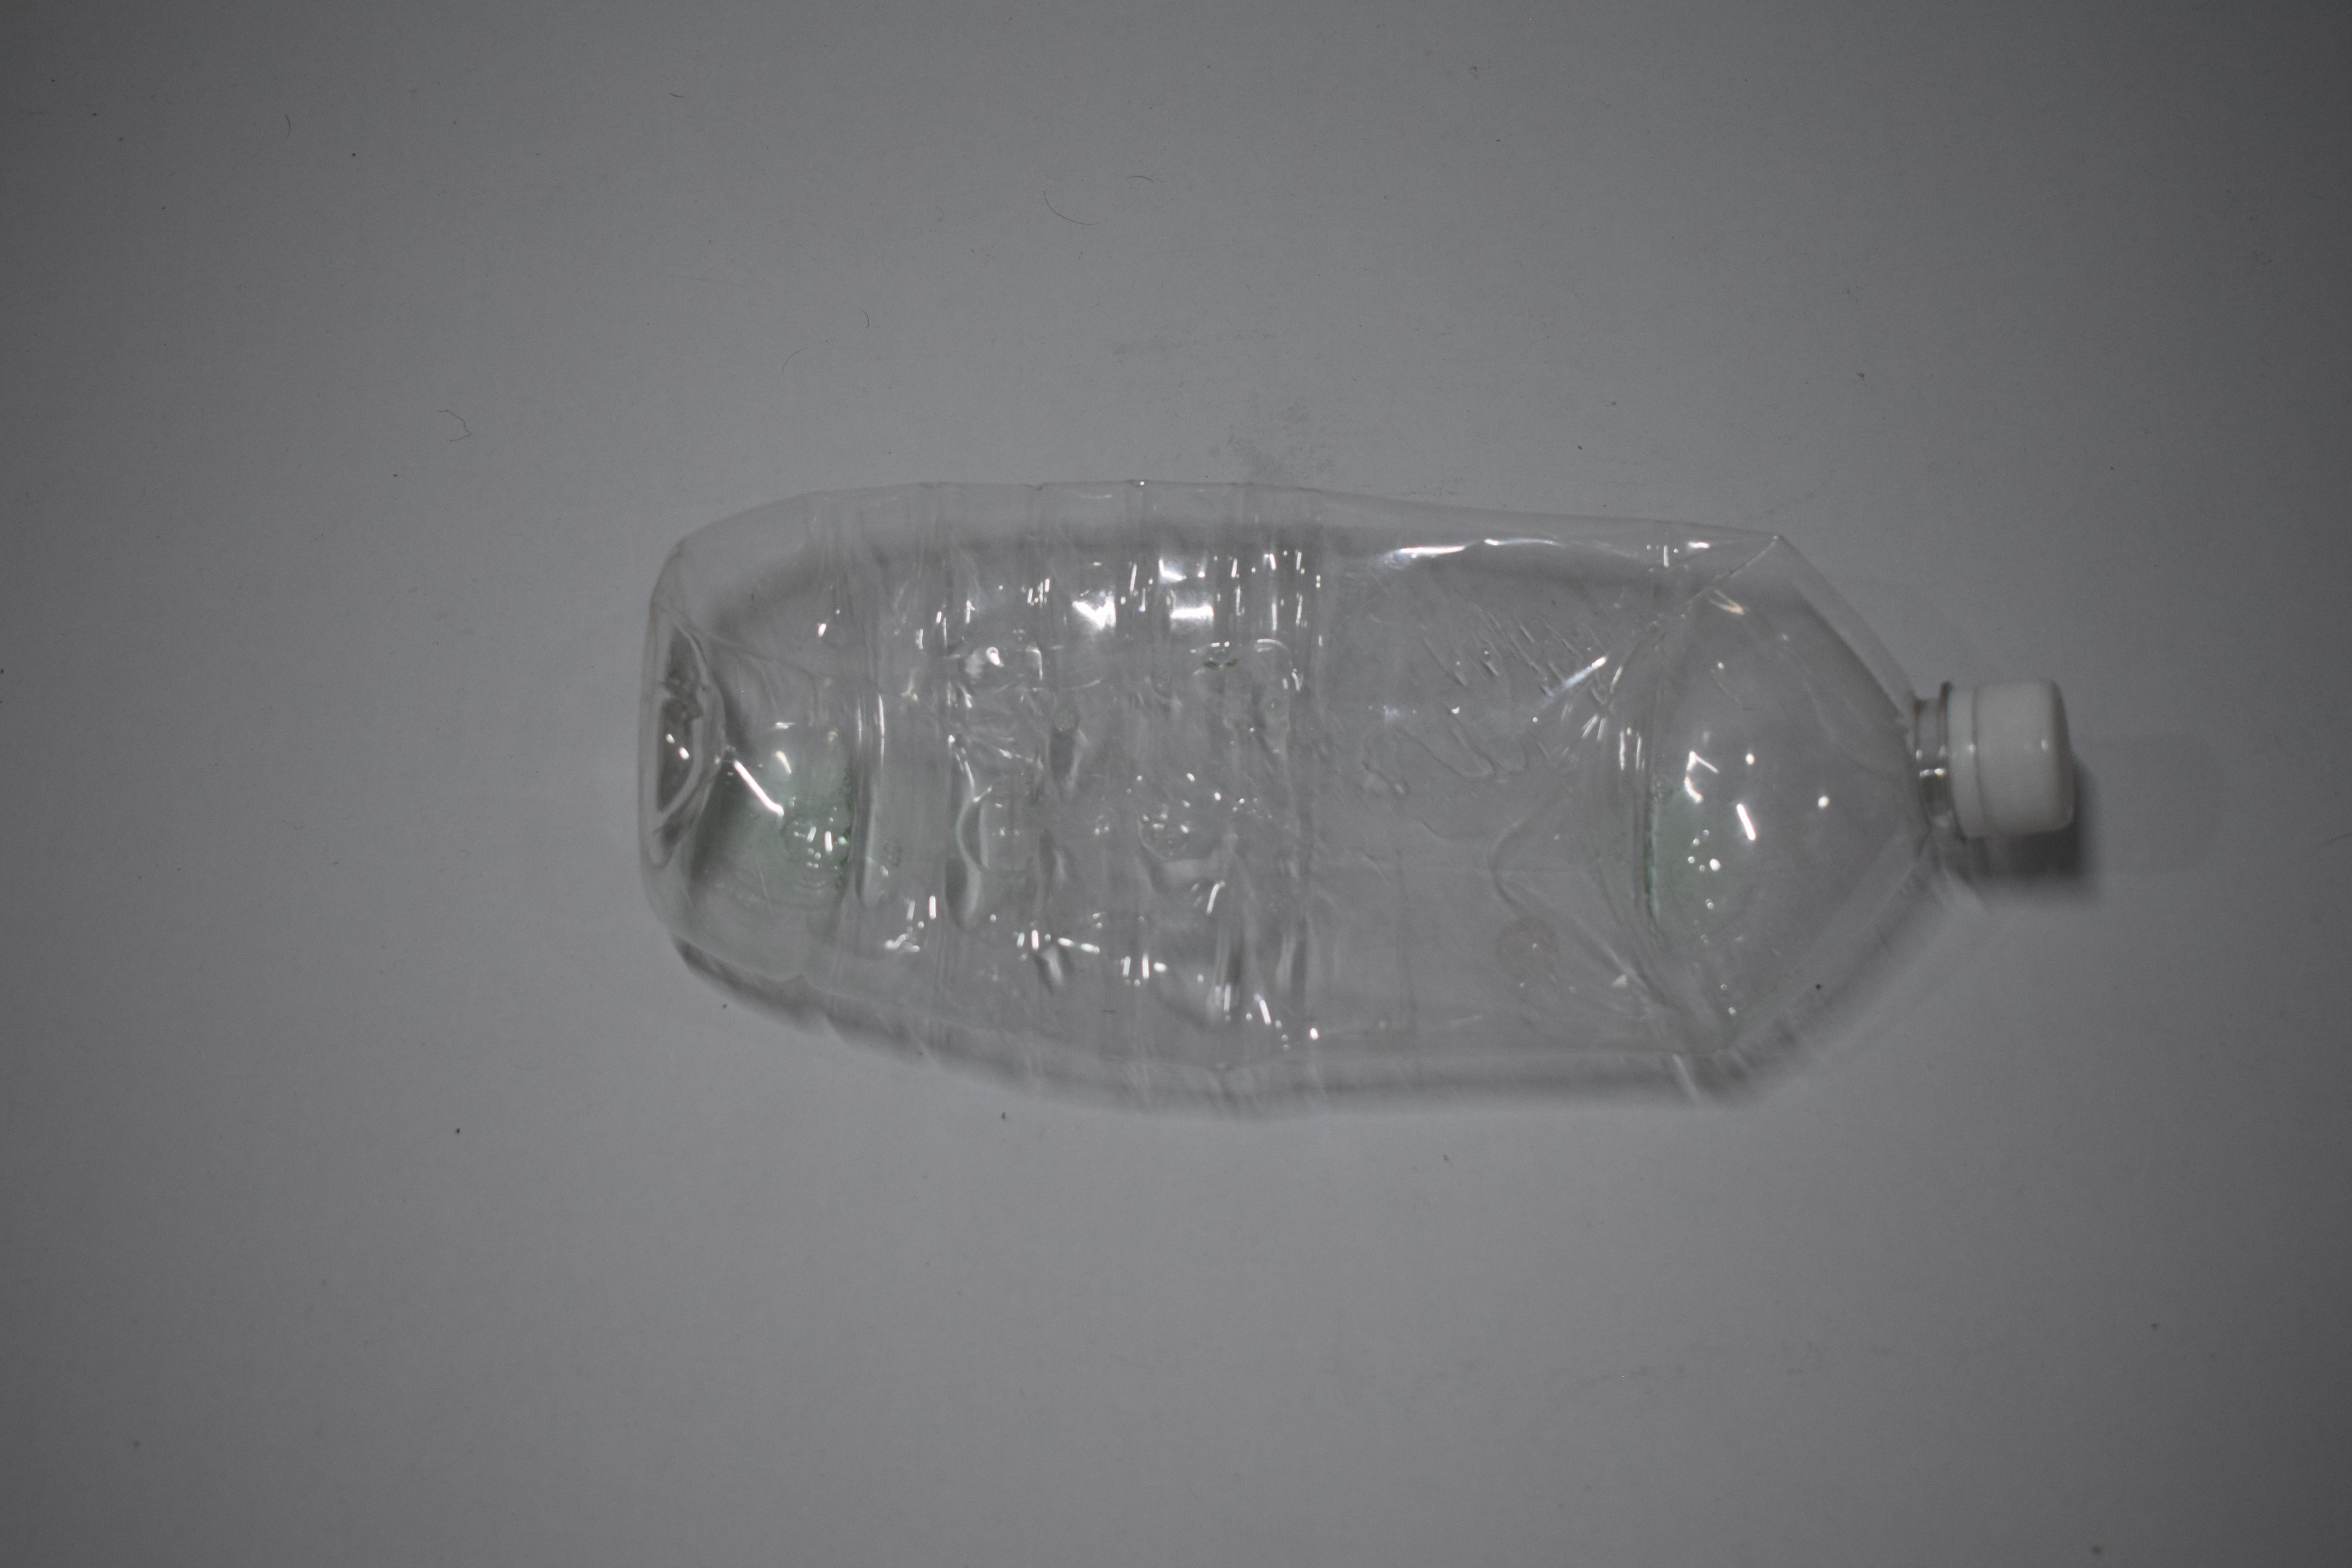bottle: (0, 465, 894, 1094)
